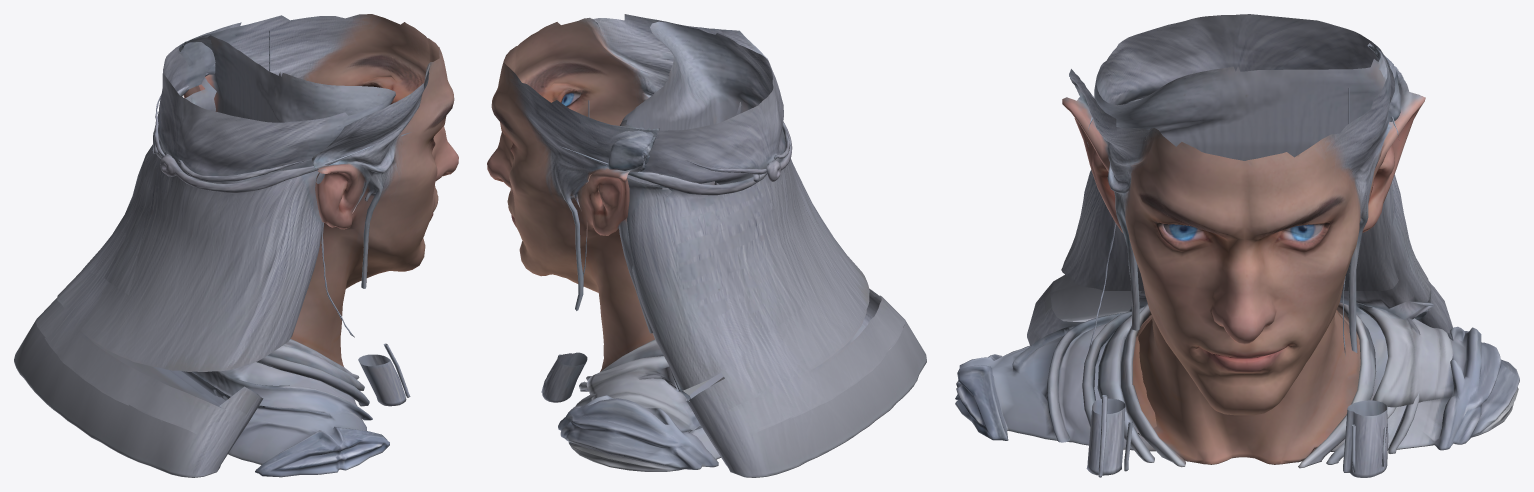
Rendered from source.glb.
3 views of the same model, side by side, from view 1: azimuth 30°, elevation 25°; view 2: azimuth 150°, elevation 25°; view 3: azimuth 270°, elevation 25° (orthographic). The views are drawn at different scales.
Visible parts, largest first — view 1: tripo_node_862f8350-a52d-4111-8076-a4dd70ffc370; view 2: tripo_node_862f8350-a52d-4111-8076-a4dd70ffc370; view 3: tripo_node_862f8350-a52d-4111-8076-a4dd70ffc370.
Boxes of the visible parts, x1,y1,x2,y2 form: tripo_node_862f8350-a52d-4111-8076-a4dd70ffc370: (14,14,458,477); tripo_node_862f8350-a52d-4111-8076-a4dd70ffc370: (487,14,926,477); tripo_node_862f8350-a52d-4111-8076-a4dd70ffc370: (955,14,1519,477).
Size of the model in its own units: 0.9648 by 0.7339 by 1.
1 material, 1 textured.
